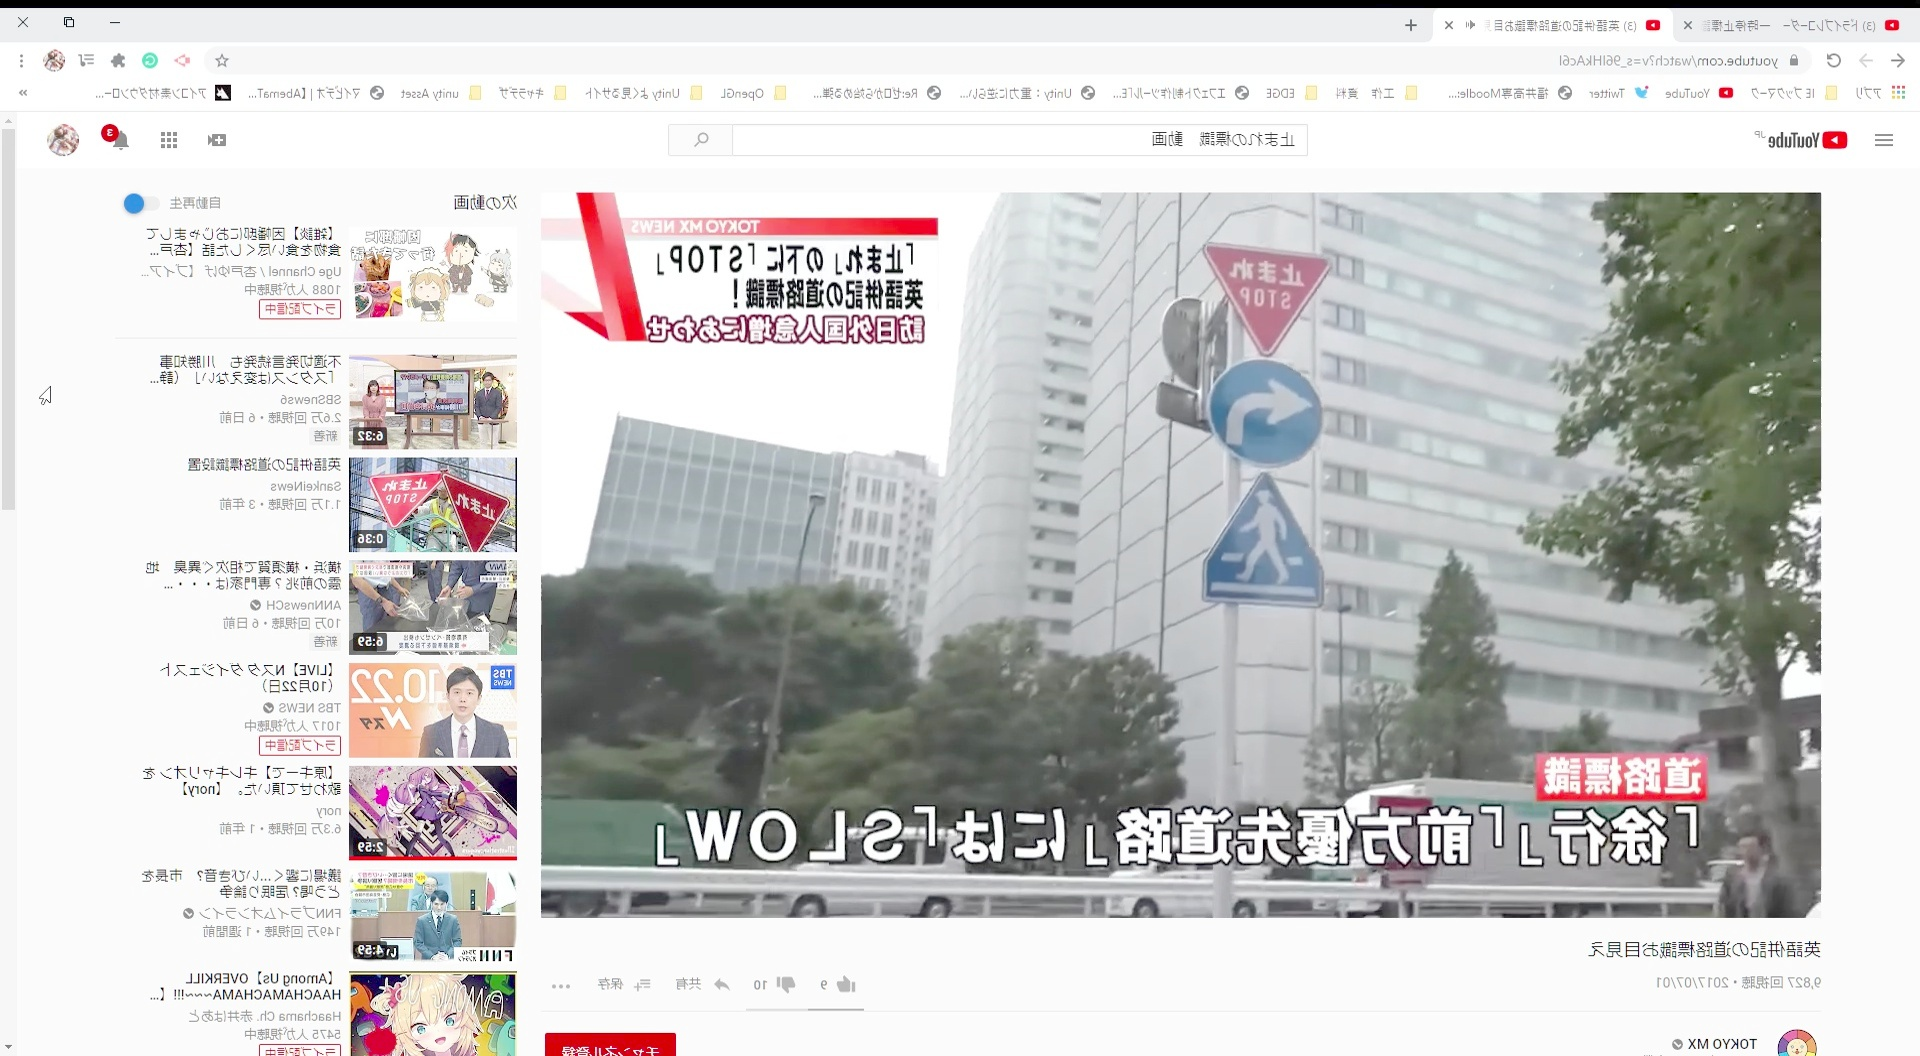Regulatory_sign_triangle: (1187, 228, 1329, 364)
